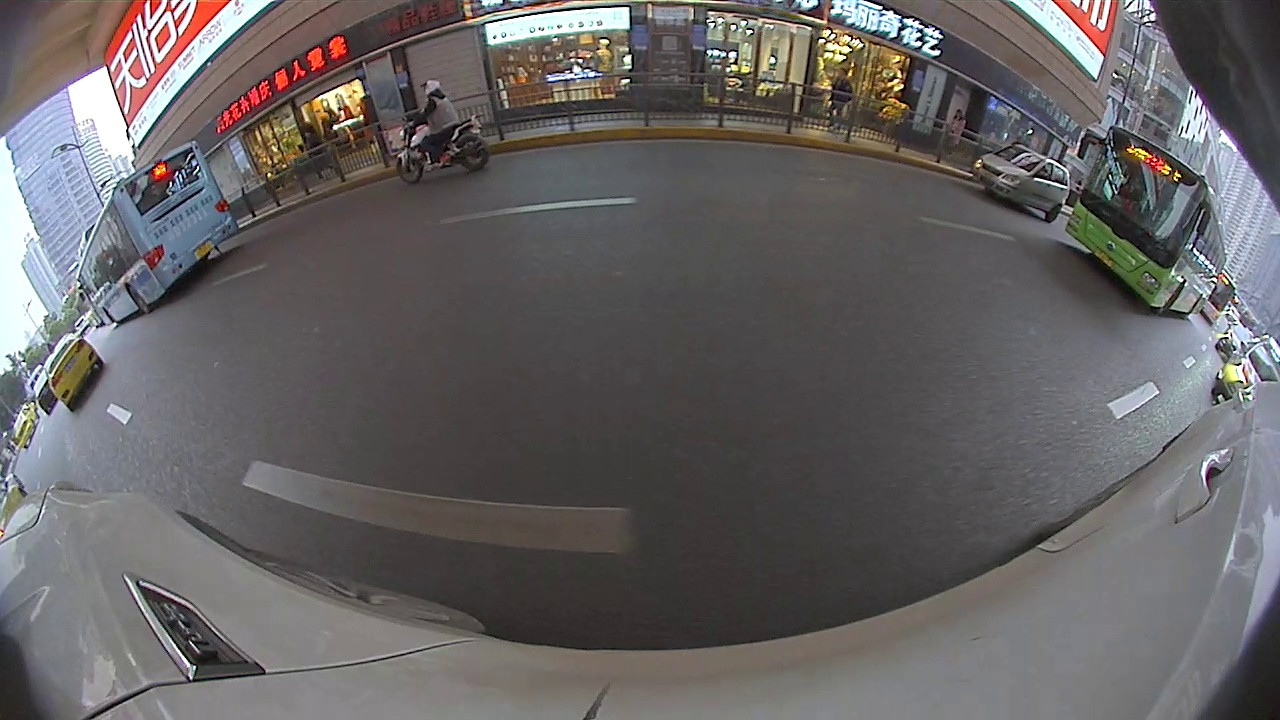bus: (70, 137, 239, 332), (1064, 122, 1229, 316)
car: (971, 147, 1074, 223), (34, 336, 108, 409)
front: (396, 152, 427, 181)
rear: (454, 139, 488, 169)
rider: (390, 74, 486, 189)
